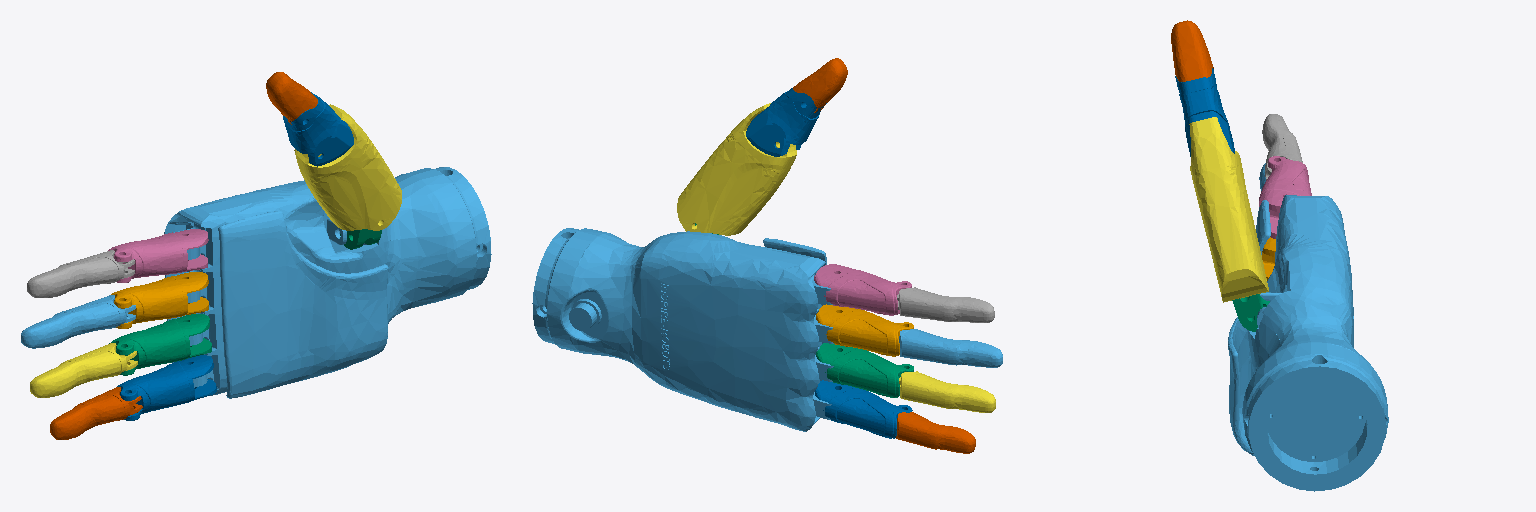
URDF robot description (inspire_hand_right):
<robot name="inspire_hand_right">
  <link name="base" />
  <joint name="base_joint" type="fixed">
    <parent link="base" />
    <child link="hand_base_link" />
    <origin xyz="0.054 0 0" rpy="-0.00159 3.09841 -1.52159" />
  </joint>
  <link name="hand_base_link">
    <parent link="base" />
    <inertial>
      <origin xyz="-0.0025264 -0.066047 0.0019598" rpy="0 0 0" />
      <mass value="0.14143" />
      <inertia ixx="0.00012281" ixy="2.1711E-06" ixz="1.7709E-06" iyy="8.3832E-05" iyz="-1.6551E-06" izz="7.6663E-05" />
    </inertial>
    <visual>
      <origin xyz="0 0 0" rpy="0 0 0" />
      <geometry>
        <mesh filename="meshes/visual/right_base_link.obj" />
      </geometry>
    </visual>
    <collision>
      <origin xyz="0 -0.0136 0" rpy="1.57079 0 0" />
      <geometry>
        <cylinder length="0.0278" radius="0.028" />
      </geometry>
    </collision>
    <collision>
      <origin xyz="-0.0032 -0.038 0" rpy="0 0 0" />
      <geometry>
        <box size="0.0391 0.0202 0.0574" />
      </geometry>
    </collision>
    <collision>
      <origin xyz="-0.0032 -0.0682 0" rpy="0 0 0" />
      <geometry>
        <box size="0.0391 0.04 0.0814" />
      </geometry>
    </collision>
    <collision>
      <origin xyz="0 -0.1081 0" rpy="0 0 0" />
      <geometry>
        <box size="0.0322 0.04 0.0814" />
      </geometry>
    </collision>
    <collision>
      <origin xyz="-0.0016 -0.1340 0.0309" rpy="0 0 0" />
      <geometry>
        <box size="0.0125 0.0111 0.0089" />
      </geometry>
    </collision>
    <collision>
      <origin xyz="-0.0016 -0.1340 0.0118" rpy="0 0 0" />
      <geometry>
        <box size="0.0125 0.0111 0.0089" />
      </geometry>
    </collision>
    <collision>
      <origin xyz="-0.0016 -0.1340 -0.0070" rpy="0 0 0" />
      <geometry>
        <box size="0.0125 0.0111 0.0089" />
      </geometry>
    </collision>
    <collision>
      <origin xyz="-0.0016 -0.1340 -0.0262" rpy="0 0 0" />
      <geometry>
        <box size="0.0125 0.0111 0.0089" />
      </geometry>
    </collision>
  </link>
  <link name="thumb_proximal_base">
    <inertial>
      <origin xyz="-0.0048064 0.0009382 -0.00757" rpy="0 0 0" />
      <mass value="0.0018869" />
      <inertia ixx="5.816E-08" ixy="1.4539E-08" ixz="4.491E-09" iyy="7.9161E-08" iyz="-1.8727E-09" izz="6.7433E-08" />
    </inertial>
    <visual>
      <origin xyz="0 0 0" rpy="0 0 0" />
      <geometry>
        <mesh filename="meshes/visual/right_thumb_proximal_base.obj" />
      </geometry>
    </visual>
    <collision>
      <origin xyz="0 0 0" rpy="0 0 0" />
      <geometry>
        <mesh filename="meshes/collision/right_thumb_proximal_base.obj" />
      </geometry>
    </collision>
  </link>
  <joint name="thumb_proximal_yaw_joint" type="revolute">
    <origin xyz="-0.01696 -0.0691 -0.02045" rpy="1.5708 -1.5708 0" />
    <parent link="hand_base_link" />
    <child link="thumb_proximal_base" />
    <axis xyz="0 0 -1" />
    <limit lower="0.0" upper="1.308" effort="1" velocity="0.5" />
  </joint>
  <link name="thumb_proximal">
    <inertial>
      <origin xyz="0.021932 0.012785 -0.0080386" rpy="0 0 0" />
      <mass value="0.0066075" />
      <inertia ixx="1.5686E-06" ixy="-7.8296E-07" ixz="8.9143E-10" iyy="1.7353E-06" iyz="-1.0191E-09" izz="2.786E-06" />
    </inertial>
    <visual>
      <origin xyz="0 0 0" rpy="0 0 0" />
      <geometry>
        <mesh filename="meshes/visual/right_thumb_proximal.obj" />
      </geometry>
    </visual>
    <collision>
      <origin xyz="0 0 0" rpy="0 0 0" />
      <geometry>
        <mesh filename="meshes/collision/right_thumb_proximal.obj" />
      </geometry>
    </collision>
  </link>
  <joint name="thumb_proximal_pitch_joint" type="revolute">
    <origin xyz="-0.0088099 0.010892 -0.00925" rpy="1.5708 0 2.8587" />
    <parent link="thumb_proximal_base" />
    <child link="thumb_proximal" />
    <axis xyz="0 0 1" />
    <limit lower="0" upper="0.6" effort="1" velocity="0.5" />
  </joint>
  <link name="thumb_intermediate">
    <inertial>
      <origin xyz="0.0095544 -0.0016282 -0.0071997" rpy="0 0 0" />
      <mass value="0.0037847" />
      <inertia ixx="3.6981E-07" ixy="-9.8581E-08" ixz="-4.7469E-12" iyy="3.2394E-07" iyz="1.0939E-12" izz="4.6531E-07" />
    </inertial>
    <visual>
      <origin xyz="0 0 0" rpy="0 0 0" />
      <geometry>
        <mesh filename="meshes/visual/right_thumb_intermediate.obj" />
      </geometry>
    </visual>
    <collision>
      <origin xyz="0 0 0" rpy="0 0 0" />
      <geometry>
        <mesh filename="meshes/collision/right_thumb_intermediate.obj" />
      </geometry>
    </collision>
  </link>
  <joint name="thumb_intermediate_joint" type="revolute">
    <origin xyz="0.04407 0.034553 -0.0008" rpy="0 0 0" />
    <parent link="thumb_proximal" />
    <child link="thumb_intermediate" />
    <axis xyz="0 0 1" />
    <limit lower="0" upper="0.8" effort="1" velocity="0.5" />
    <mimic joint="thumb_proximal_pitch_joint" multiplier="1.334" offset="0" />
  </joint>
  <link name="thumb_distal">
    <inertial>
      <origin xyz="0.0092888 0.0049529 -0.0060033" rpy="0 0 0" />
      <mass value="0.0033441" />
      <inertia ixx="1.3632E-07" ixy="-5.6788E-08" ixz="-9.2764E-11" iyy="1.4052E-07" iyz="-1.2283E-10" izz="2.0026E-07" />
    </inertial>
    <visual>
      <origin xyz="0 0 0" rpy="0 0 0" />
      <geometry>
        <mesh filename="meshes/visual/right_thumb_distal.obj" />
      </geometry>
    </visual>
    <collision>
      <origin xyz="0 0 0" rpy="0 0 0" />
      <geometry>
        <mesh filename="meshes/collision/right_thumb_distal.obj" />
      </geometry>
    </collision>
  </link>
  <joint name="thumb_distal_joint" type="revolute">
    <origin xyz="0.020248 0.010156 -0.0012" rpy="0 0 0" />
    <parent link="thumb_intermediate" />
    <child link="thumb_distal" />
    <axis xyz="0 0 1" />
    <limit lower="0" upper="0.4" effort="1" velocity="0.5" />
    <mimic joint="thumb_proximal_pitch_joint" multiplier="0.667" offset="0" />
  </joint>
  <link name="index_proximal">
    <inertial>
      <origin xyz="0.0012259 0.011942 -0.0060001" rpy="0 0 0" />
      <mass value="0.0042403" />
      <inertia ixx="6.6232E-07" ixy="-1.5775E-08" ixz="1.8515E-12" iyy="2.1146E-07" iyz="-5.0828E-12" izz="6.9398E-07" />
    </inertial>
    <visual>
      <origin xyz="0 0 0" rpy="0 0 0" />
      <geometry>
        <mesh filename="meshes/visual/right_index_proximal.obj" />
      </geometry>
    </visual>
    <collision>
      <origin xyz="0 0 0" rpy="0 0 0" />
      <geometry>
        <mesh filename="meshes/collision/right_index_proximal.obj" />
      </geometry>
    </collision>
  </link>
  <joint name="index_proximal_joint" type="revolute">
    <origin xyz="0.00028533 -0.13653 -0.032268" rpy="-3.1067 0 0" />
    <parent link="hand_base_link" />
    <child link="index_proximal" />
    <axis xyz="0 0 1" />
    <limit lower="0" upper="1.47" effort="1" velocity="0.5" />
  </joint>
  <link name="index_intermediate">
    <inertial>
      <origin xyz="0.0019697 0.019589 -0.005" rpy="0 0 0" />
      <mass value="0.0045683" />
      <inertia ixx="7.6111E-07" ixy="8.7637E-08" ixz="-3.7751E-13" iyy="9.6076E-08" iyz="9.9444E-13" izz="7.8179E-07" />
    </inertial>
    <visual>
      <origin xyz="0 0 0" rpy="0 0 0" />
      <geometry>
        <mesh filename="meshes/visual/right_index_intermediate.obj" />
      </geometry>
    </visual>
    <collision>
      <origin xyz="0 0 0" rpy="0 0 0" />
      <geometry>
        <mesh filename="meshes/collision/right_index_intermediate.obj" />
      </geometry>
    </collision>
  </link>
  <joint name="index_intermediate_joint" type="revolute">
    <origin xyz="-0.0026138 0.032026 -0.001" rpy="0 0 0" />
    <parent link="index_proximal" />
    <child link="index_intermediate" />
    <axis xyz="0 0 1" />
    <limit lower="-0.04545" upper="1.56" effort="1" velocity="0.5" />
    <mimic joint="index_proximal_joint" multiplier="1.06399" offset="-0.04545" />
  </joint>
  <link name="middle_proximal">
    <inertial>
      <origin xyz="0.001297 0.011934 -0.0060001" rpy="0 0 0" />
      <mass value="0.0042403" />
      <inertia ixx="6.6211E-07" ixy="-1.8461E-08" ixz="1.8002E-12" iyy="2.1167E-07" iyz="-6.6808E-12" izz="6.9397E-07" />
    </inertial>
    <visual>
      <origin xyz="0 0 0" rpy="0 0 0" />
      <geometry>
        <mesh filename="meshes/visual/right_index_proximal.obj" />
      </geometry>
    </visual>
    <collision>
      <origin xyz="0 0 0" rpy="0 0 0" />
      <geometry>
        <mesh filename="meshes/collision/right_index_proximal.obj" />
      </geometry>
    </collision>
  </link>
  <joint name="middle_proximal_joint" type="revolute">
    <origin xyz="0.00028533 -0.1371 -0.01295" rpy="-3.1416 0 0" />
    <parent link="hand_base_link" />
    <child link="middle_proximal" />
    <axis xyz="0 0 1" />
    <limit lower="0" upper="1.47" effort="1" velocity="0.5" />
  </joint>
  <link name="middle_intermediate">
    <inertial>
      <origin xyz="0.001921 0.020796 -0.005" rpy="0 0 0" />
      <mass value="0.0050396" />
      <inertia ixx="9.5822E-07" ixy="1.1425E-07" ixz="-2.4791E-12" iyy="1.0646E-07" iyz="5.9173E-12" izz="9.8384E-07" />
    </inertial>
    <visual>
      <origin xyz="0 0 0" rpy="0 0 0" />
      <geometry>
        <mesh filename="meshes/visual/right_middle_intermediate.obj" />
      </geometry>
    </visual>
    <collision>
      <origin xyz="0 0 0" rpy="0 0 0" />
      <geometry>
        <mesh filename="meshes/collision/right_middle_intermediate.obj" />
      </geometry>
    </collision>
  </link>
  <joint name="middle_intermediate_joint" type="revolute">
    <origin xyz="-0.0024229 0.032041 -0.001" rpy="0 0 0" />
    <parent link="middle_proximal" />
    <child link="middle_intermediate" />
    <axis xyz="0 0 1" />
    <limit lower="-0.04545" upper="1.56" effort="1" velocity="0.5" />
    <mimic joint="middle_proximal_joint" multiplier="1.06399" offset="-0.04545" />
  </joint>
  <link name="ring_proximal">
    <inertial>
      <origin xyz="0.001297 0.011934 -0.0060002" rpy="0 0 0" />
      <mass value="0.0042403" />
      <inertia ixx="6.6211E-07" ixy="-1.8461E-08" ixz="1.5793E-12" iyy="2.1167E-07" iyz="-6.6868E-12" izz="6.9397E-07" />
    </inertial>
    <visual>
      <origin xyz="0 0 0" rpy="0 0 0" />
      <geometry>
        <mesh filename="meshes/visual/right_index_proximal.obj" />
      </geometry>
    </visual>
    <collision>
      <origin xyz="0 0 0" rpy="0 0 0" />
      <geometry>
        <mesh filename="meshes/collision/right_index_proximal.obj" />
      </geometry>
    </collision>
  </link>
  <joint name="ring_proximal_joint" type="revolute">
    <origin xyz="0.00028533 -0.13691 0.0062872" rpy="3.0892 0 0" />
    <parent link="hand_base_link" />
    <child link="ring_proximal" />
    <axis xyz="0 0 1" />
    <limit lower="0" upper="1.47" effort="1" velocity="0.5" />
  </joint>
  <link name="ring_intermediate">
    <inertial>
      <origin xyz="0.0021753 0.019567 -0.005" rpy="0 0 0" />
      <mass value="0.0045683" />
      <inertia ixx="7.6286E-07" ixy="8.0635E-08" ixz="-6.1562E-13" iyy="9.431E-08" iyz="5.8619E-13" izz="7.8177E-07" />
    </inertial>
    <visual>
      <origin xyz="0 0 0" rpy="0 0 0" />
      <geometry>
        <mesh filename="meshes/visual/right_index_intermediate.obj" />
      </geometry>
    </visual>
    <collision>
      <origin xyz="0 0 0" rpy="0 0 0" />
      <geometry>
        <mesh filename="meshes/collision/right_index_intermediate.obj" />
      </geometry>
    </collision>
  </link>
  <joint name="ring_intermediate_joint" type="revolute">
    <origin xyz="-0.0024229 0.032041 -0.001" rpy="0 0 0" />
    <parent link="ring_proximal" />
    <child link="ring_intermediate" />
    <axis xyz="0 0 1" />
    <limit lower="-0.04545" upper="1.56" effort="1" velocity="0.5" />
    <mimic joint="ring_proximal_joint" multiplier="1.06399" offset="-0.04545" />
  </joint>
  <link name="pinky_proximal">
    <inertial>
      <origin xyz="0.001297 0.011934 -0.0060001" rpy="0 0 0" />
      <mass value="0.0042403" />
      <inertia ixx="6.6211E-07" ixy="-1.8461E-08" ixz="1.6907E-12" iyy="2.1167E-07" iyz="-6.9334E-12" izz="6.9397E-07" />
    </inertial>
    <visual>
      <origin xyz="0 0 0" rpy="0 0 0" />
      <geometry>
        <mesh filename="meshes/visual/right_index_proximal.obj" />
      </geometry>
    </visual>
    <collision>
      <origin xyz="0 0 0" rpy="0 0 0" />
      <geometry>
        <mesh filename="meshes/collision/right_index_proximal.obj" />
      </geometry>
    </collision>
  </link>
  <joint name="pinky_proximal_joint" type="revolute">
    <origin xyz="0.00028533 -0.13571 0.025488" rpy="3.0369 0 0" />
    <parent link="hand_base_link" />
    <child link="pinky_proximal" />
    <axis xyz="0 0 1" />
    <limit lower="0" upper="1.47" effort="1" velocity="0.5" />
  </joint>
  <link name="pinky_intermediate">
    <inertial>
      <origin xyz="0.0024748 0.016203 -0.0050031" rpy="0 0 0" />
      <mass value="0.0035996" />
      <inertia ixx="4.3913E-07" ixy="4.1418E-08" ixz="3.7168E-11" iyy="7.0247E-08" iyz="5.8613E-11" izz="4.4867E-07" />
    </inertial>
    <visual>
      <origin xyz="0 0 0" rpy="0 0 0" />
      <geometry>
        <mesh filename="meshes/visual/right_pinky_intermediate.obj" />
      </geometry>
    </visual>
    <collision>
      <origin xyz="0 0 0" rpy="0 0 0" />
      <geometry>
        <mesh filename="meshes/collision/right_pinky_intermediate.obj" />
      </geometry>
    </collision>
  </link>
  <joint name="pinky_intermediate_joint" type="revolute">
    <origin xyz="-0.0024229 0.032041 -0.001" rpy="0 0 0" />
    <parent link="pinky_proximal" />
    <child link="pinky_intermediate" />
    <axis xyz="0 0 1" />
    <limit lower="-0.04545" upper="1.56" effort="1" velocity="0.5" />
    <mimic joint="pinky_proximal_joint" multiplier="1.06399" offset="-0.04545" />
  </joint>

  <link name="thumb_tip" />
  <joint name="thumb_tip_joint" type="fixed">
    <origin xyz="0.0202 0.0140 -0.006" rpy="0 0 0" />
    <parent link="thumb_distal" />
    <child link="thumb_tip" />
  </joint>
  <link name="index_tip" />
  <joint name="index_tip_joint" type="fixed">
    <origin xyz="-0.0008 0.045 -0.005" rpy="0 0 0" />
    <parent link="index_intermediate" />
    <child link="index_tip" />
  </joint>
  <link name="middle_tip" />
  <joint name="middle_tip_joint" type="fixed">
    <origin xyz="-0.001 0.048 -0.005" rpy="0 0 0" />
    <parent link="middle_intermediate" />
    <child link="middle_tip" />
  </joint>
  <link name="ring_tip" />
  <joint name="ring_tip_joint" type="fixed">
    <origin xyz="-0.0008 0.045 -0.005" rpy="0 0 0" />
    <parent link="ring_intermediate" />
    <child link="ring_tip" />
  </joint>
  <link name="pinky_tip" />
  <joint name="pinky_tip_joint" type="fixed">
    <origin xyz="-0.0008 0.037 -0.005" rpy="0 0 0" />
    <parent link="pinky_intermediate" />
    <child link="pinky_tip" />
  </joint>
</robot>

--- Render facts (derived) ---
Views: 3 orthographic renders of the robot side by side, from view 1: azimuth 30°, elevation 25°; view 2: azimuth 150°, elevation 25°; view 3: azimuth 270°, elevation 25°.
Model inspire_hand_right with 19 links and 18 joints (12 revolute, 6 fixed), rooted at base, posed every joint at zero.
Visible links, largest first — view 1: hand_base_link, thumb_proximal, pinky_proximal, ring_proximal, middle_proximal, index_proximal, middle_intermediate, thumb_intermediate, ring_intermediate, index_intermediate, pinky_intermediate, thumb_distal (+1 smaller); view 2: hand_base_link, thumb_proximal, thumb_intermediate, index_proximal, ring_proximal, pinky_proximal, middle_proximal, middle_intermediate, ring_intermediate, index_intermediate, pinky_intermediate, thumb_distal; view 3: hand_base_link, thumb_proximal, thumb_intermediate, index_proximal, thumb_distal, index_intermediate, thumb_proximal_base.
Link boxes in pixels (x1,y1,x2,y2): hand_base_link: (164, 167, 491, 398); thumb_proximal: (294, 104, 401, 230); pinky_proximal: (117, 355, 216, 420); ring_proximal: (109, 314, 211, 375); middle_proximal: (111, 272, 208, 328); index_proximal: (108, 229, 208, 282); middle_intermediate: (21, 295, 135, 348); thumb_intermediate: (283, 92, 353, 166); ring_intermediate: (30, 343, 137, 397); index_intermediate: (27, 250, 134, 297); pinky_intermediate: (50, 387, 142, 439); thumb_distal: (266, 72, 317, 124); hand_base_link: (532, 228, 833, 431); thumb_proximal: (677, 103, 796, 235); thumb_intermediate: (746, 88, 826, 156); index_proximal: (814, 264, 911, 315); ring_proximal: (816, 343, 913, 397); pinky_proximal: (815, 380, 912, 438); middle_proximal: (816, 304, 913, 356); middle_intermediate: (899, 329, 1002, 367); ring_intermediate: (899, 371, 995, 412); index_intermediate: (897, 287, 994, 322); pinky_intermediate: (896, 412, 975, 453); thumb_distal: (793, 58, 847, 112); hand_base_link: (1228, 195, 1388, 491); thumb_proximal: (1189, 117, 1268, 302); thumb_intermediate: (1175, 68, 1234, 156); index_proximal: (1259, 156, 1311, 238); thumb_distal: (1171, 20, 1213, 81); index_intermediate: (1262, 114, 1302, 179); thumb_proximal_base: (1232, 294, 1269, 331).
Size in the robot's own frame: 0.2187 by 0.082 by 0.16 metres.
Meshes: 9 distinct files referenced, 13 mesh visuals loaded (9 OBJ).
